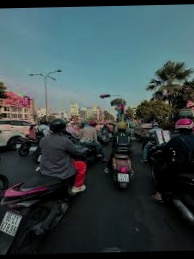Bien-so: (0, 212, 22, 237), (118, 174, 130, 183)
